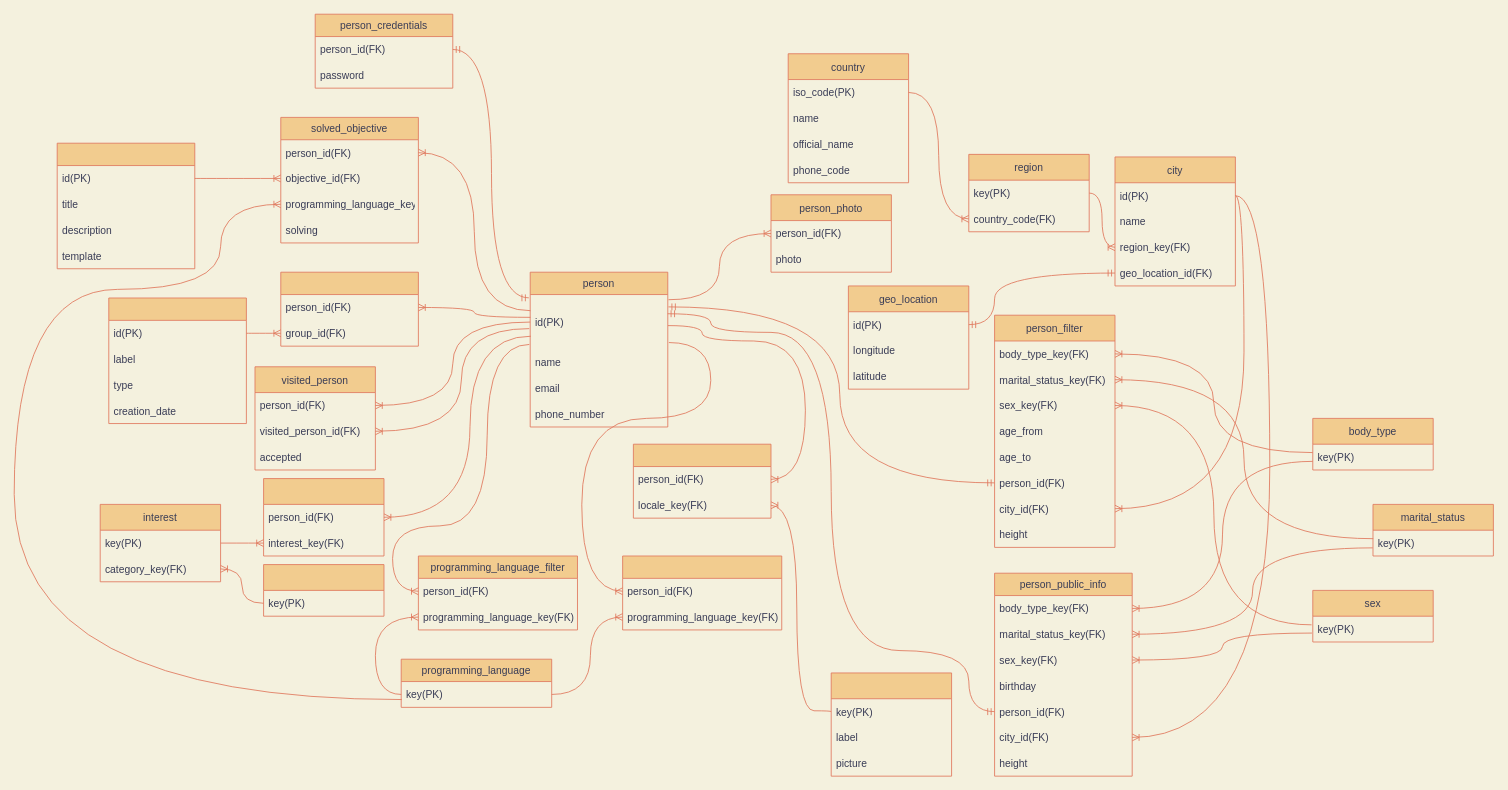
Some shapes in this 1508 by 790 pixel diagram are drawn without their labels. The shapes that lost their labels are listed below. From the top down, each one's box as (x1, y1, x2, y2) in pixels, then its label:
(56, 142, 195, 269): objective
(280, 271, 418, 346): group_member
(108, 297, 246, 424): group
(633, 443, 771, 518): person_locale
(263, 478, 384, 556): person_interest
(263, 564, 384, 616): interest_category
(622, 555, 782, 630): person_programming_language
(830, 672, 952, 776): locale
